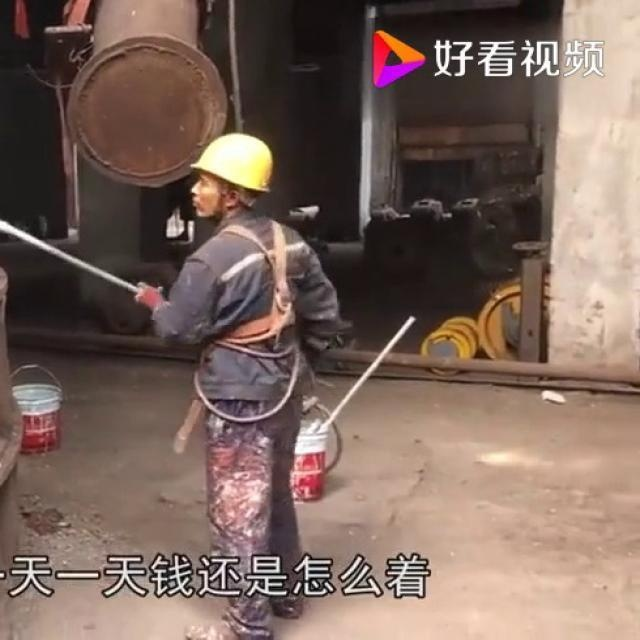Arnes_seguridad: (195, 214, 307, 350)
